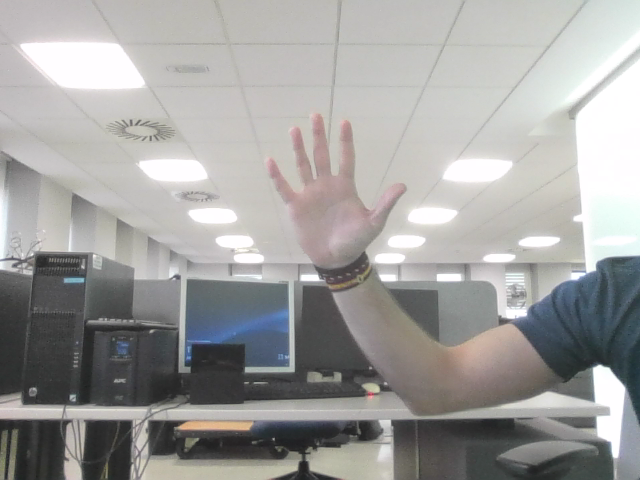Mano Abierta: (276, 124, 393, 239)
